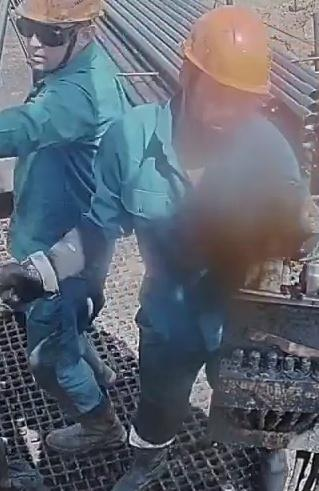gloves: (0, 249, 84, 321)
goggles: (11, 11, 92, 47)
helmet: (181, 4, 271, 94), (11, 0, 105, 24)
vest: (134, 105, 275, 362), (8, 38, 138, 281)
